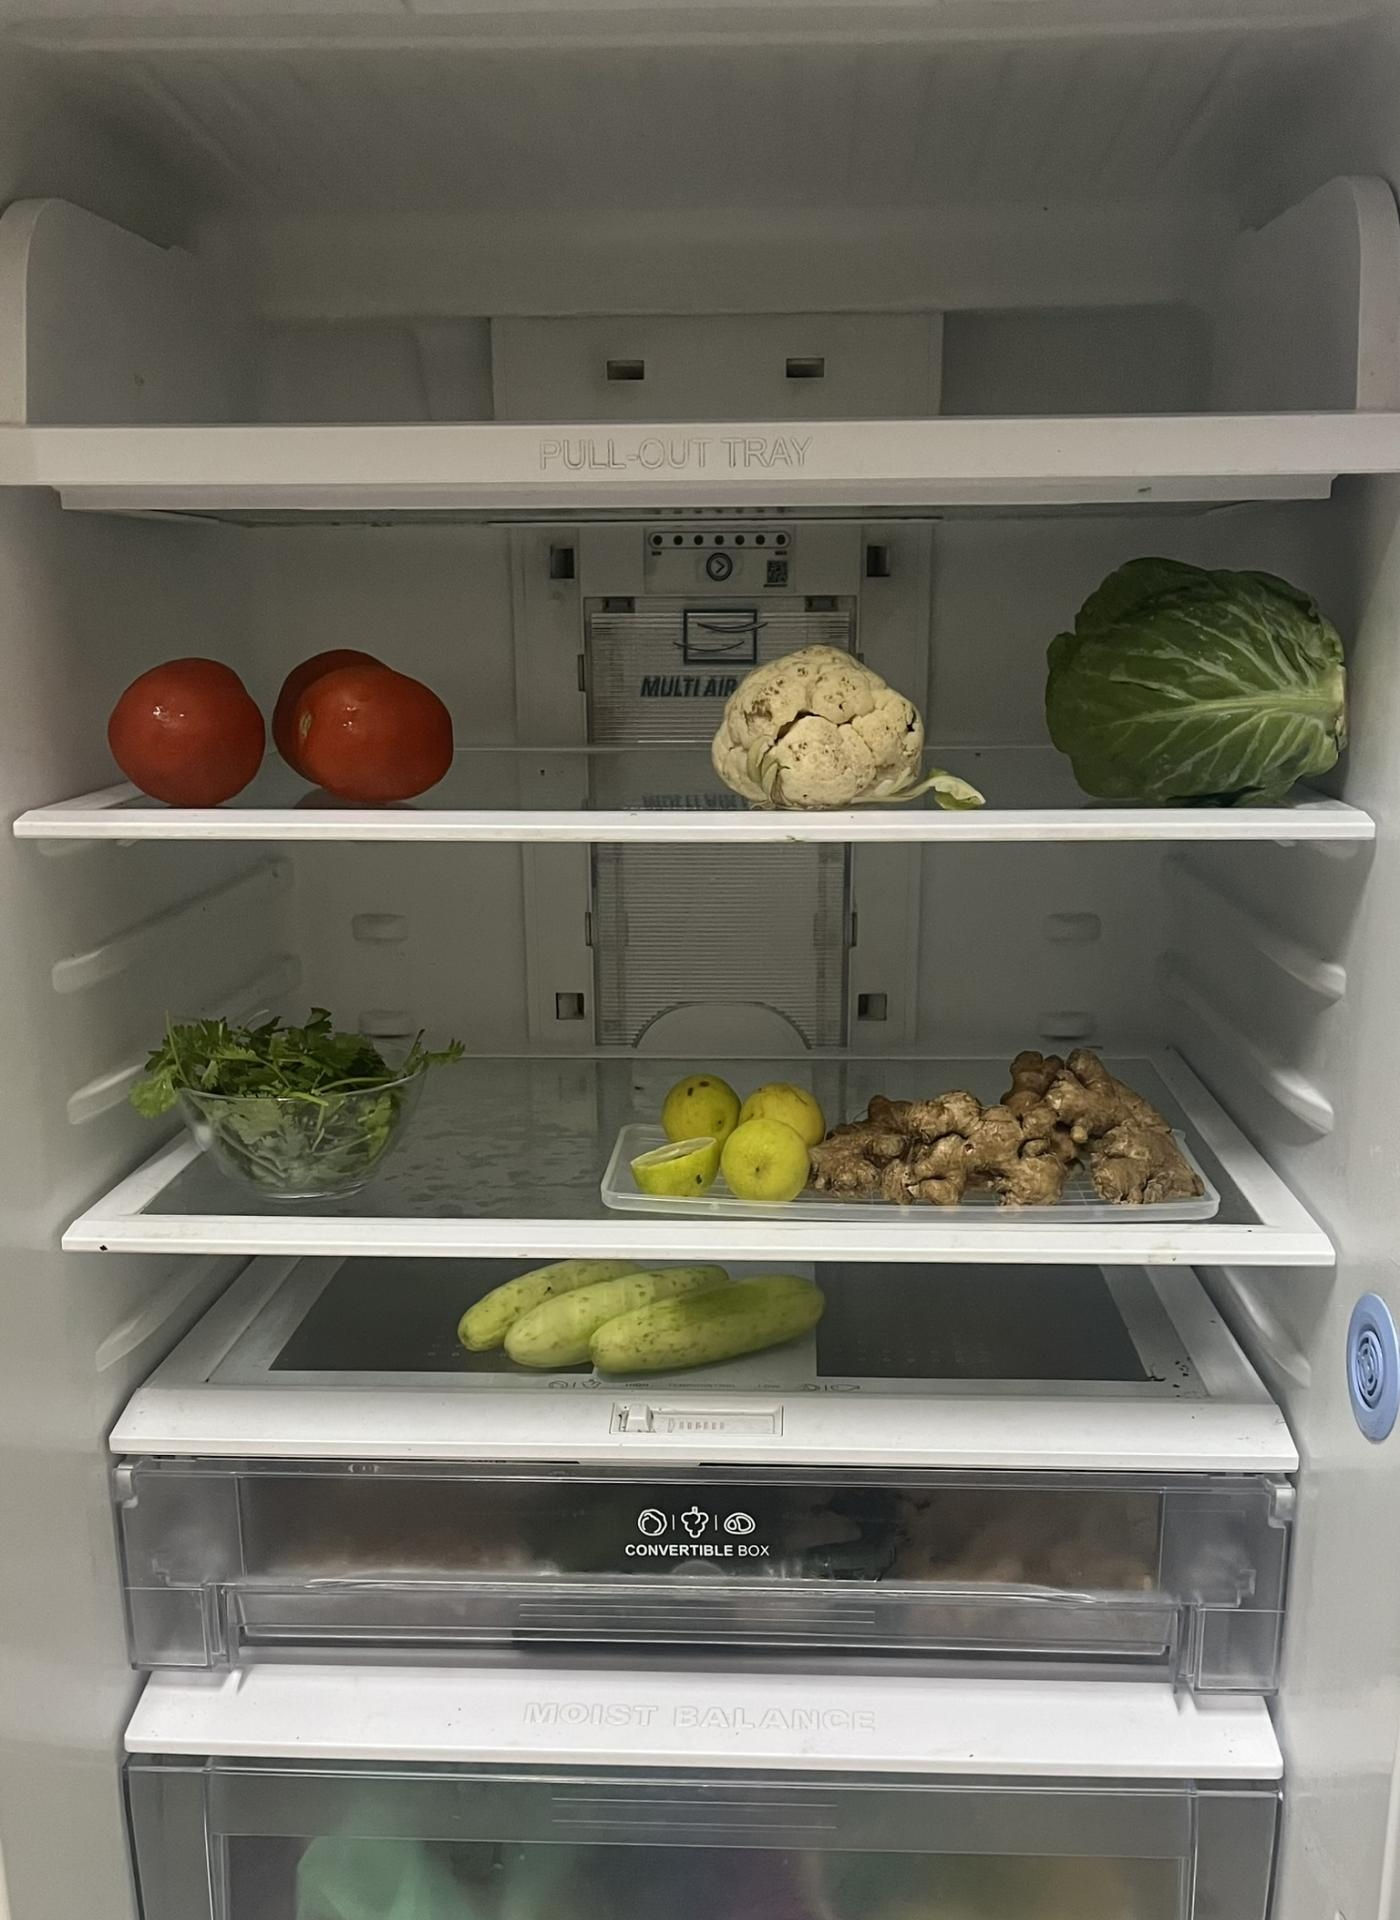cabbage: (1054, 559, 1357, 799)
cauliflower: (713, 640, 932, 799)
coriander: (152, 1000, 446, 1199)
cucumber: (456, 1261, 829, 1374)
ginger: (811, 1046, 1203, 1206)
lemon: (631, 1072, 826, 1204)
tomato: (119, 648, 461, 793)
